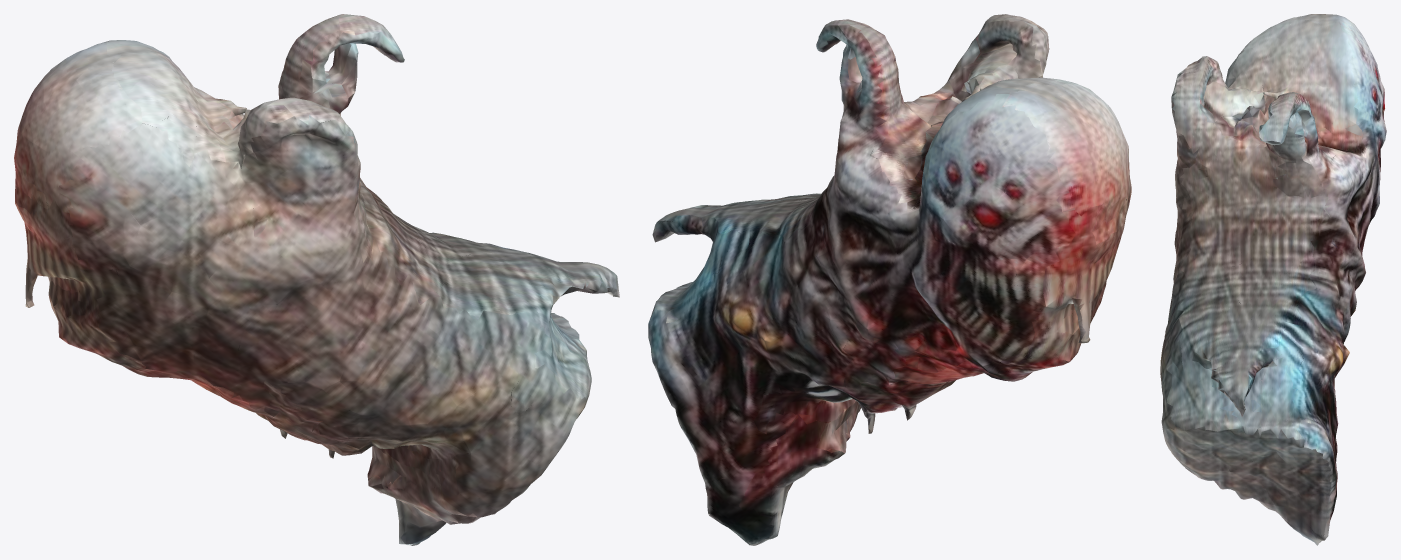
The model's file is bdy.glb.
The picture shows the model from 3 angles, left to right: view 1: azimuth 30°, elevation 25°; view 2: azimuth 150°, elevation 25°; view 3: azimuth 270°, elevation 25°; orthographic projection. The views are drawn at different scales.
Visible parts, largest first — view 1: world; view 2: world; view 3: world.
Part boxes in pixels (x1,y1,x2,y2): world: (14, 14, 619, 545); world: (648, 14, 1131, 545); world: (1160, 14, 1386, 545).
Bounding box in the file's own units: 0.8801 × 0.8779 × 0.4318.
1 material, 1 textured.
